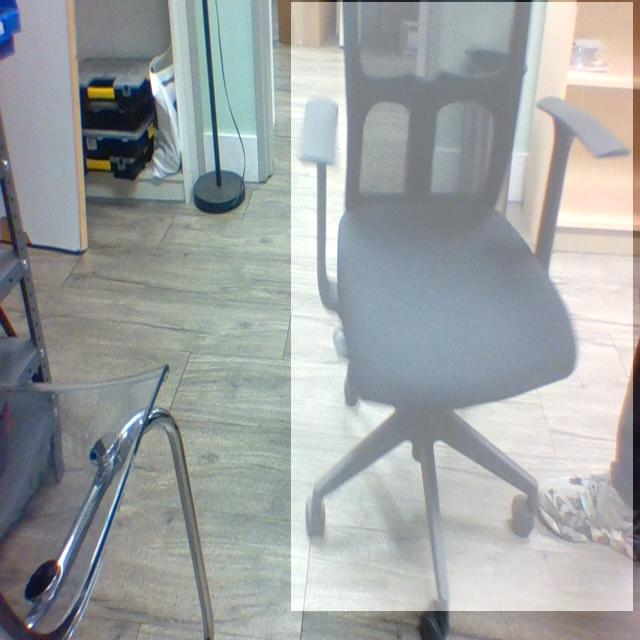black-chair: (291, 2, 634, 612)
